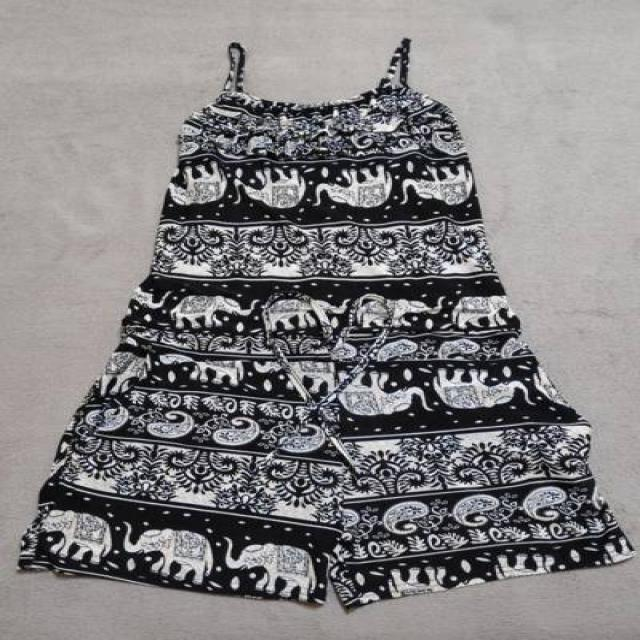Clothes -Biodegradable-: (16, 83, 640, 615)
